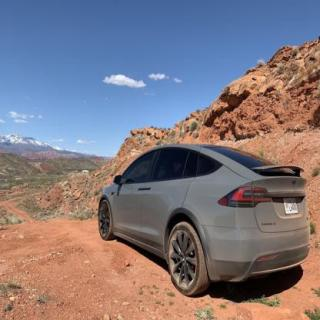Normal_vehicle: (98, 144, 309, 295)
